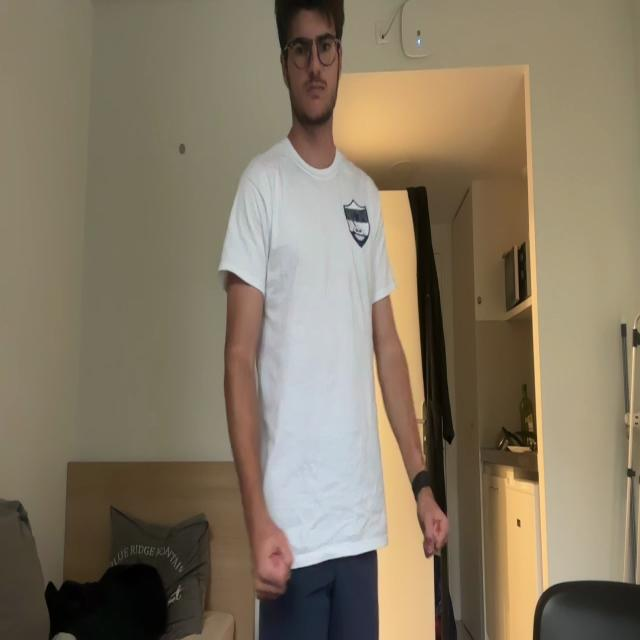elbow: (224, 347, 260, 397), (372, 326, 403, 372)
hand: (251, 513, 294, 601), (416, 485, 448, 558)
shoulder: (233, 152, 275, 240), (364, 171, 382, 249)
